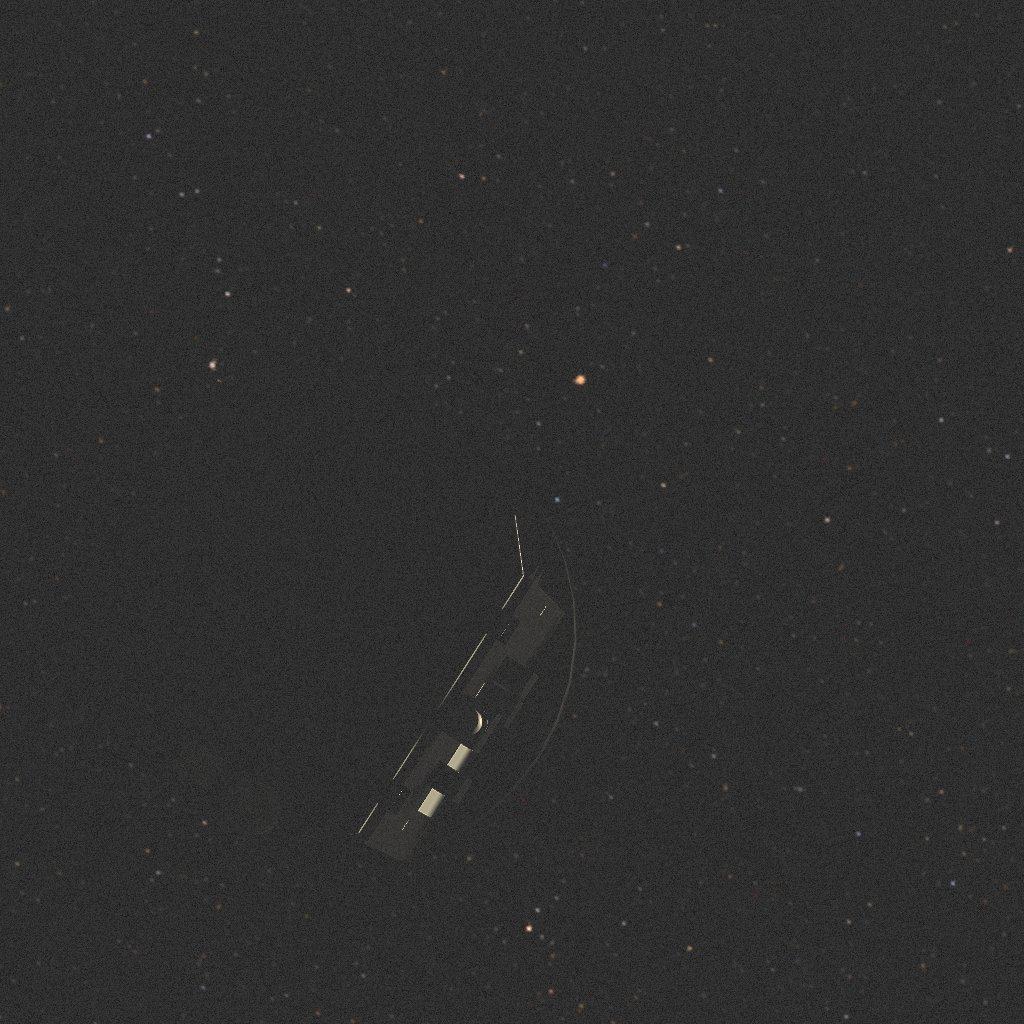proba_3_ocs: (51, 364, 576, 865)
